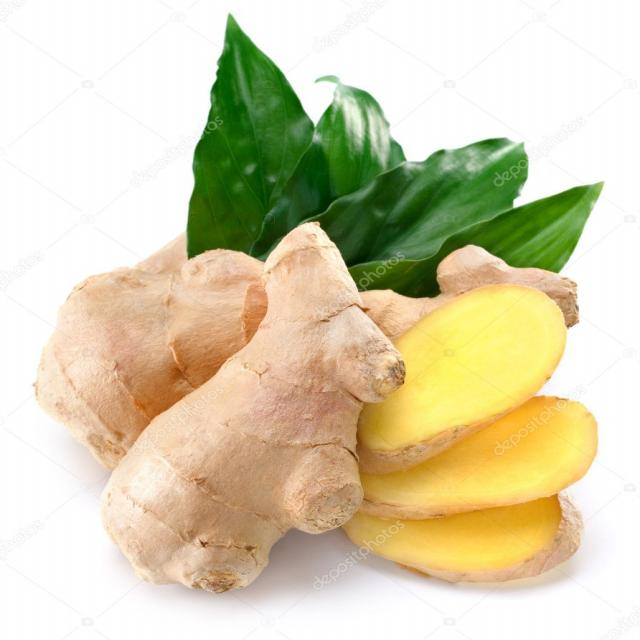ginger: (45, 252, 609, 604)
